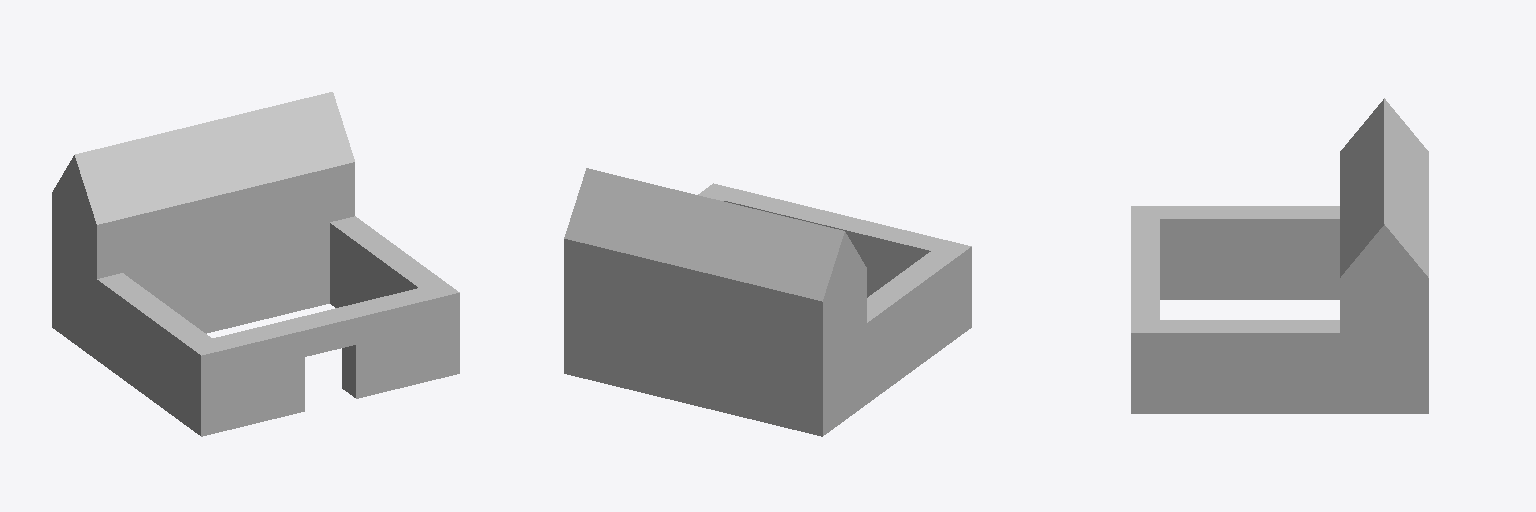
Rendered from conquer_barracks.obj.
The picture shows the model from 3 angles: view 1: azimuth 30°, elevation 25°; view 2: azimuth 150°, elevation 25°; view 3: azimuth 270°, elevation 25°; orthographic projection.
Visible parts, largest first — view 1: Cube.001; view 2: Cube.001; view 3: Cube.001.
Boxes of the visible parts, <box> form: Cube.001: <box>52,92,459,436</box>; Cube.001: <box>564,168,971,436</box>; Cube.001: <box>1131,98,1428,413</box>.
Size of the model in its own units: 0.625 by 0.4375 by 0.625.